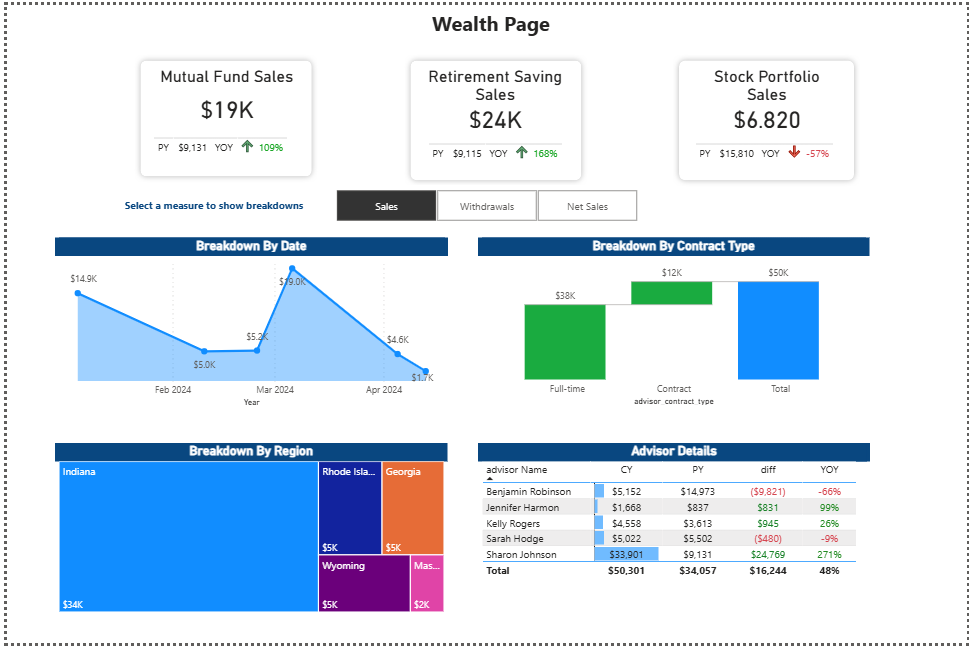

What the dashboard file says about the page in this screenshot:
{"tool":"powerbi","page":{"name":"wealth","canvas":[1280,850],"ordinal":1},"visuals":[{"type":"textbox","box":[9.1,0,1270.4,48.5],"z":0},{"type":"group","id":"g1","title":"Group 1","box":[170.1,66.1,244.2,170.5],"z":1000},{"type":"group","id":"g2","title":"Group 1","box":[529.4,66.1,243.8,175.7],"z":2000},{"type":"shape","box":[170.1,66.1,244.2,170.5],"z":2250,"group":"g1"},{"type":"shape","box":[529.4,66.1,243.8,175.7],"z":2250,"group":"g2"},{"type":"shape","box":[888.2,66.1,249.5,175.7],"z":2250,"group":"g3"},{"type":"tableEx","fields":{"Values":["Sales.PY text","Sales.PY Sales","Sales.YOY text","Sales.YOY Sales"]},"box":[190.7,143.3,206,81.3],"z":2500,"group":"g1"},{"type":"tableEx","fields":{"Values":["Sales.PY text","Sales.PY Sales","Sales.YOY text","Sales.YOY Sales"]},"box":[554.8,151.3,206,83.4],"z":2500,"group":"g2"},{"type":"tableEx","fields":{"Values":["Sales.PY text","Sales.PY Sales","Sales.YOY text","Sales.YOY Sales"]},"box":[912.4,152.2,207.8,82.2],"z":2500,"group":"g3"},{"type":"group","id":"g3","title":"Group 1","box":[888.2,66.1,249.5,175.7],"z":3000},{"type":"card","title":"Mutual Fund Sales","fields":{"Values":["Sales.CY Sales"]},"box":[195.1,82,194.2,84.4],"z":3000,"group":"g1"},{"type":"card","title":"Retirement Saving Sales","fields":{"Values":["Sales.CY Sales"]},"box":[554.4,82.5,193.8,87.1],"z":3000,"group":"g2"},{"type":"card","title":"Stock Portfolio Sales","fields":{"Values":["Sales.CY Sales"]},"box":[913.8,82.5,198.3,87.1],"z":3000,"group":"g3"},{"type":"slicer","fields":{"Values":["options.Measure"]},"box":[414,240,450,54],"z":4000},{"type":"textbox","box":[152.9,252.6,273.2,30.9],"z":5000},{"type":"areaChart","title":"Breakdown By Date","fields":{"Y":["options.CY"],"Category":["Sales.record_date.Variation.Date Hierarchy.Year","Sales.record_date.Variation.Date Hierarchy.Quarter","Sales.record_date.Variation.Date Hierarchy.Month","Sales.record_date.Variation.Date Hierarchy.Day"]},"box":[64,310,524,230],"z":6000},{"type":"waterfallChart","title":"Breakdown By Contract Type","fields":{"Y":["options.CY"],"Category":["Advisor.advisor_contract_type"]},"box":[628,310,522,228],"z":7000},{"type":"treemap","title":"Breakdown By Region","fields":{"Group":["Advisor.advisor_region"],"Values":["options.CY"]},"box":[63.3,583.3,523.3,230],"z":8000},{"type":"tableEx","title":"Advisor Details","fields":{"Values":["Advisor.advisor_name","options.CY","options.PY","options.diff","options.YOY"]},"box":[627.1,583.3,522.9,230],"z":9000}]}

Visuals, with their boxes in screenshot pixels (x1, y1, x2, y2), scaled from the page's 1280x850 canvas onto the 969x648 screenshot:
textbox: bbox(7, 0, 968, 37)
"Group 1" group: bbox(129, 50, 314, 180)
"Group 1" group: bbox(401, 50, 585, 184)
shape: bbox(129, 50, 314, 180)
shape: bbox(401, 50, 585, 184)
shape: bbox(672, 50, 861, 184)
tableEx - Sales.PY text x Sales.PY Sales: bbox(144, 109, 300, 171)
tableEx - Sales.PY text x Sales.PY Sales: bbox(420, 115, 576, 179)
tableEx - Sales.PY text x Sales.PY Sales: bbox(691, 116, 848, 179)
"Group 1" group: bbox(672, 50, 861, 184)
"Mutual Fund Sales" card: bbox(148, 63, 295, 127)
"Retirement Saving Sales" card: bbox(420, 63, 566, 129)
"Stock Portfolio Sales" card: bbox(692, 63, 842, 129)
slicer - options.Measure: bbox(313, 183, 654, 224)
textbox: bbox(116, 193, 323, 216)
"Breakdown By Date" areaChart: bbox(48, 236, 445, 412)
"Breakdown By Contract Type" waterfallChart: bbox(475, 236, 871, 410)
"Breakdown By Region" treemap: bbox(48, 445, 444, 620)
"Advisor Details" tableEx: bbox(475, 445, 871, 620)
